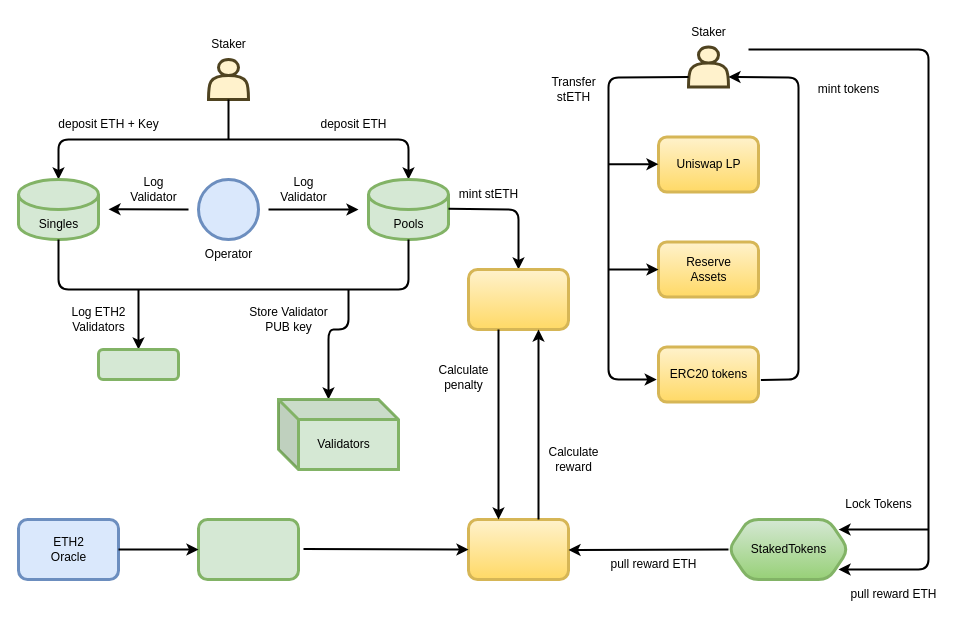
Some shapes in this 966 by 627 pixel diagram are drawn without their labels. The shapes that lost their labels are listed below. From the top down, each one's box as (x1, y1, x2, y2) in pixels, then its label:
(466, 268, 570, 330): staked ETH
(96, 348, 180, 380): ETH2
(196, 518, 300, 580): Balance Indexers
(466, 518, 570, 580): reward ETH
